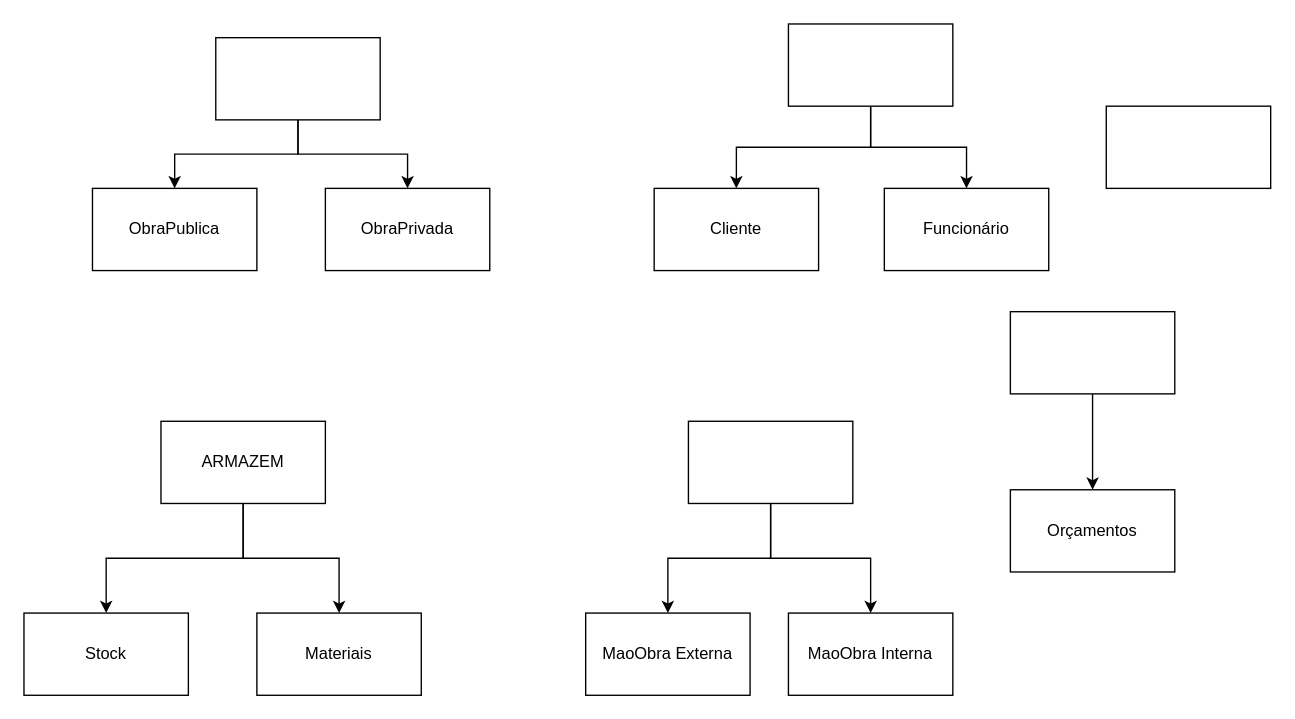
Image size: 1295x719. Some labels were removed from this diagram. Here are the shapes that lost their labels. From the top down, the centre of each, then its label:
At point 297,78: "OBRA".
At point 870,64: "PERSON".
At point 1188,146: "DLL_Estaleiro".
At point 1092,352: "DOCUMENTOS".
At point 770,461: "MAO DE OBRA".
